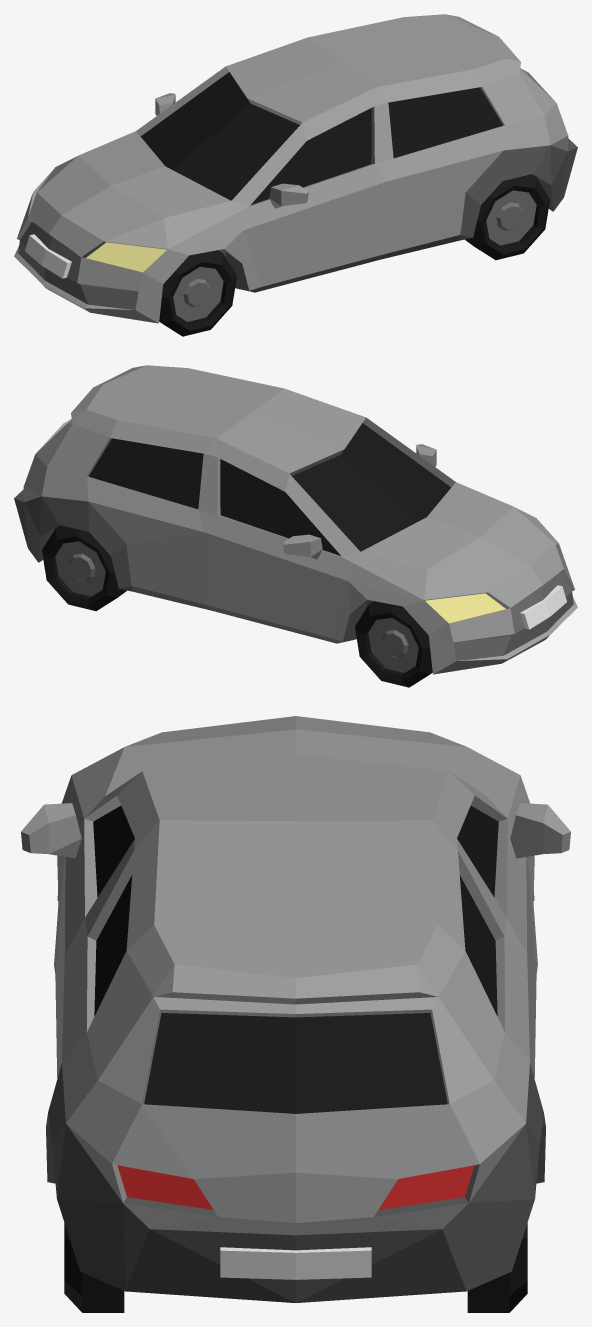
File: vehicle_static_car_3.glb
3 views of the same model, one above another, from view 1: azimuth 30°, elevation 25°; view 2: azimuth 150°, elevation 25°; view 3: azimuth 270°, elevation 25° (orthographic). The views are drawn at different scales.
Visible parts, largest first — view 1: Wheel3-4; view 2: Wheel3-4; view 3: Wheel3-4.
Boxes of the visible parts, box(x1,y1,x2,y2) form: Wheel3-4: box(14, 14, 577, 336); Wheel3-4: box(14, 365, 577, 687); Wheel3-4: box(21, 716, 570, 1312).
Bounding box in the file's own units: 4.55 × 1.57 × 2.14.
Materials: 4 (4 with a texture image).
